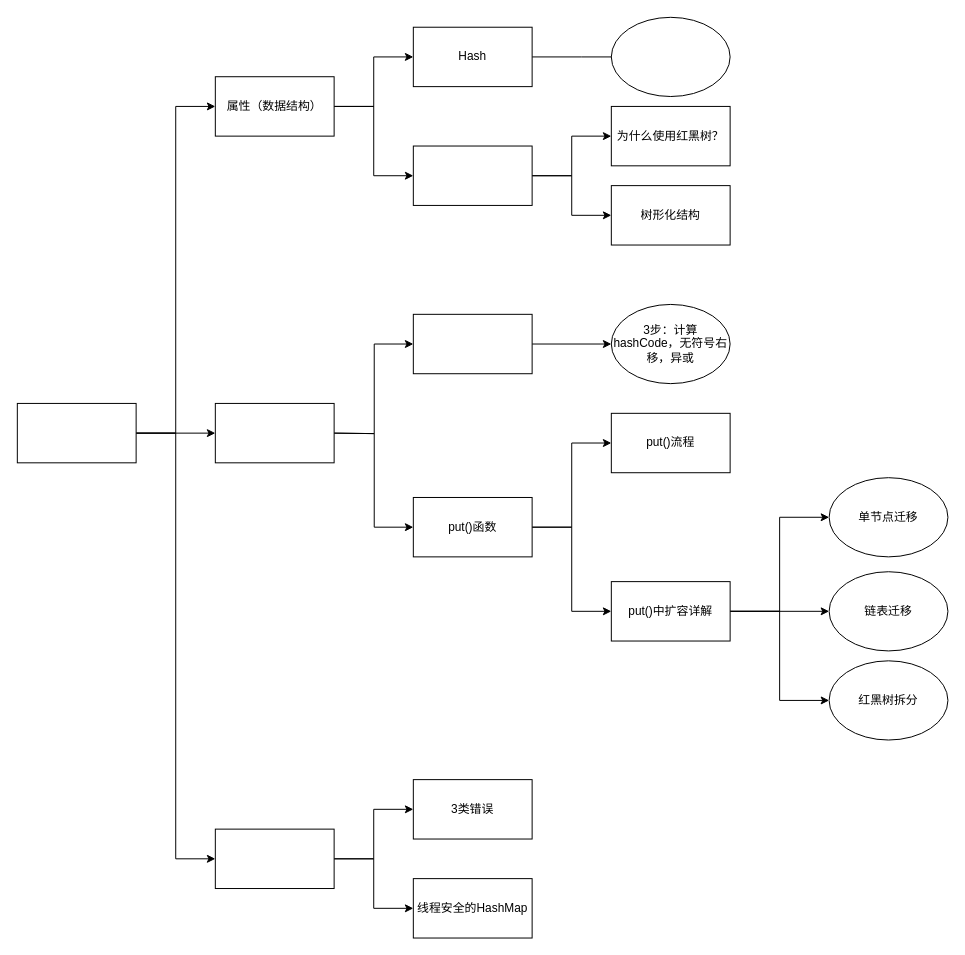
Some shapes in this 965 by 955 pixel diagram are drawn without their labels. Here are the shapes that lost their labels. From the top down, the centre of each, then its label:
At pixel 670 56: "哈希函数、处理冲突的方法、哈希因子".
At pixel 472 175: "红黑树".
At pixel 472 343: "Hash()函数".
At pixel 76 432: "HashMap".
At pixel 274 432: "成员方法".
At pixel 274 858: "安全性".
